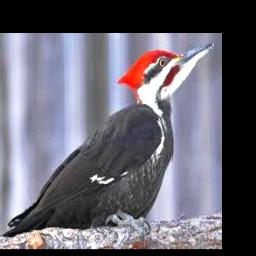Woodpecker: (1, 41, 215, 238)
